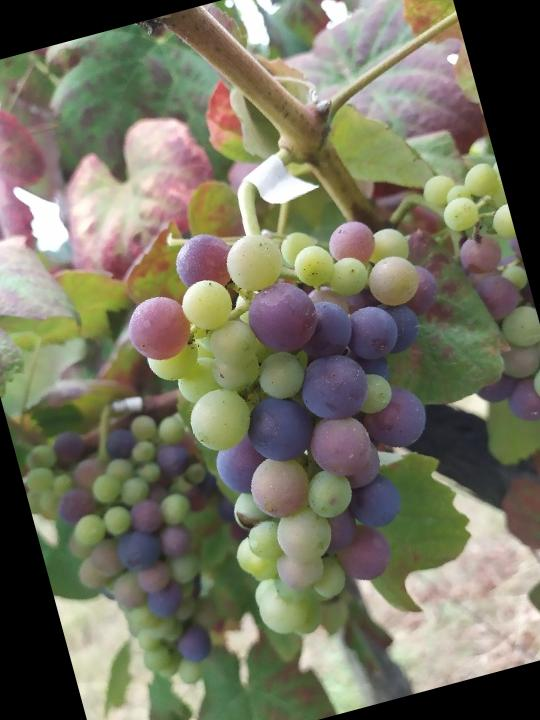grape: (104, 174, 521, 663)
